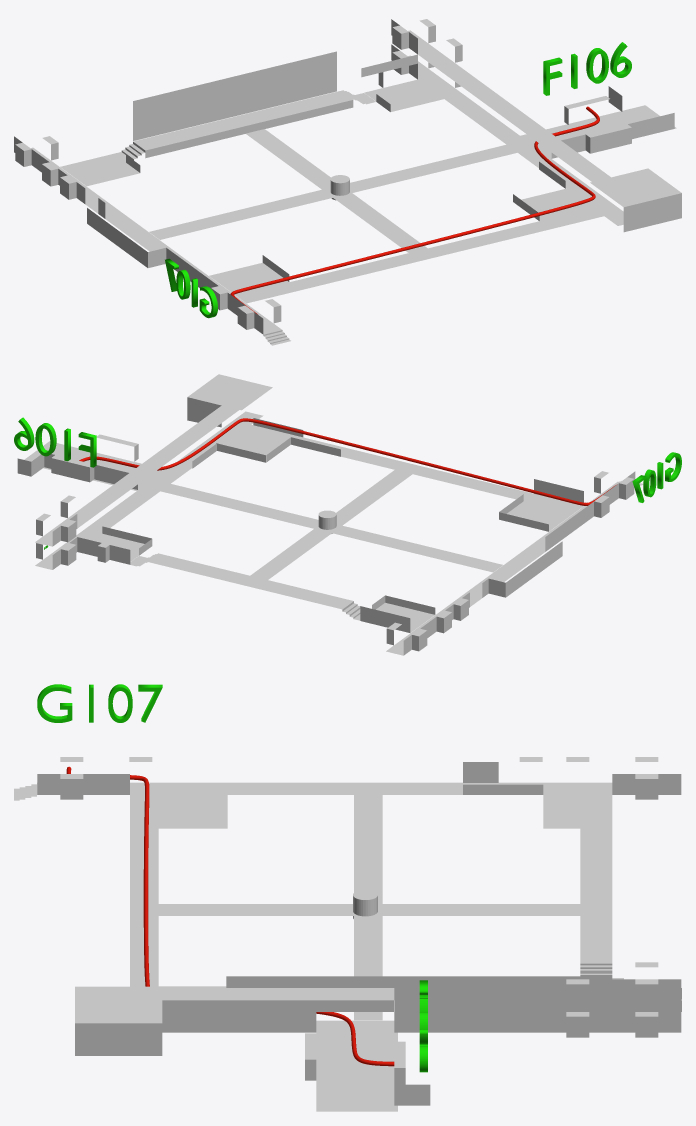
File: campus.glb
3 views of the same model, one above another, from view 1: azimuth 30°, elevation 25°; view 2: azimuth 150°, elevation 25°; view 3: azimuth 270°, elevation 25° (orthographic). The views are drawn at different scales.
Visible parts, largest first — view 1: Plane.013, Plane.005, Plane.010, Plane.022, Plane.029, Plane.014, Cube.018, Plane.023, Plane, NurbsPath, Cube.017, Cube.009 (+13 smaller); view 2: Plane.022, Plane.010, Plane.029, Plane.014, Plane.005, Plane.023, Cube.018, NurbsPath, Cube.009, Cube.010, Plane, Text.001 (+15 smaller); view 3: Cube.018, Plane.026, Plane, Plane.022, Plane.005, Plane.010, Cube.014, Plane.023, Cube.006, Cube.017, Plane.031, Plane.029 (+16 smaller).
Boxes of the visible parts, left/top/right/bottom form: Plane.013: left=133, top=51, right=336, bottom=140; Plane.005: left=114, top=90, right=375, bottom=162; Plane.010: left=236, top=208, right=604, bottom=303; Plane.022: left=149, top=144, right=517, bottom=239; Plane.029: left=408, top=30, right=610, bottom=181; Plane.014: left=408, top=55, right=623, bottom=225; Cube.018: left=590, top=168, right=681, bottom=232; Plane.023: left=246, top=129, right=427, bottom=252; Plane: left=31, top=147, right=290, bottom=345; NurbsPath: left=230, top=106, right=599, bottom=314; Cube.017: left=551, top=113, right=674, bottom=158; Cube.009: left=87, top=198, right=209, bottom=292; Plane.022: left=160, top=483, right=502, bottom=572; Plane.010: left=241, top=424, right=583, bottom=513; Plane.029: left=35, top=405, right=238, bottom=546; Plane.014: left=35, top=411, right=263, bottom=569; Plane.005: left=130, top=553, right=360, bottom=620; Plane.023: left=250, top=470, right=412, bottom=579; Cube.018: left=187, top=374, right=272, bottom=427; NurbsPath: left=79, top=418, right=615, bottom=505; Cube.009: left=482, top=507, right=585, bottom=597; Cube.010: left=17, top=454, right=137, bottom=489; Plane: left=386, top=481, right=643, bottom=655; Text.001: left=14, top=417, right=96, bottom=467; Cube.018: left=75, top=986, right=162, bottom=1055; Plane.026: left=316, top=1031, right=397, bottom=1111; Plane: left=14, top=782, right=612, bottom=800; Plane.022: left=354, top=794, right=382, bottom=1020; Plane.005: left=580, top=828, right=612, bottom=976; Plane.010: left=130, top=794, right=158, bottom=986; Cube.014: left=394, top=979, right=612, bottom=1004; Plane.023: left=158, top=904, right=580, bottom=915; Cube.006: left=394, top=1012, right=612, bottom=1037; Cube.017: left=162, top=1012, right=316, bottom=1080; Plane.031: left=394, top=1000, right=681, bottom=1011; Plane.029: left=162, top=988, right=394, bottom=1000.
Size of the model in its own units: 149 by 15.55 by 116.
